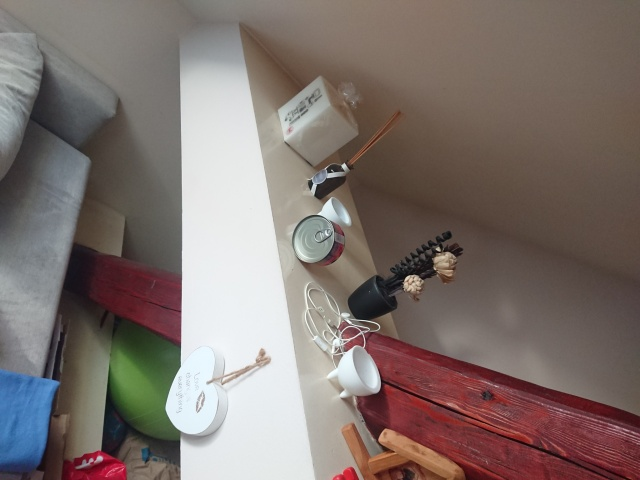Giana Tuna Salad Mexico 185g: (290, 213, 347, 268)
